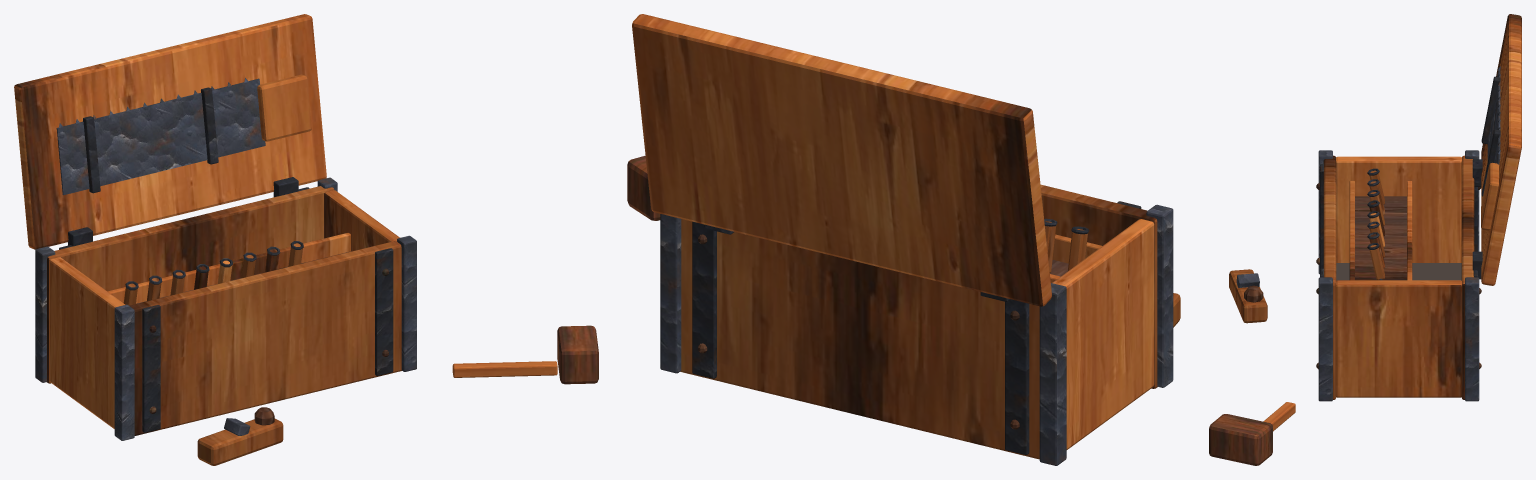
File: mg_tool_chest.glb
3 renders of one model, left to right at view 1: azimuth 30°, elevation 25°; view 2: azimuth 150°, elevation 25°; view 3: azimuth 270°, elevation 25°, orthographic. The views are drawn at different scales.
Visible parts, largest first — view 1: model; view 2: model; view 3: model.
Part boxes in pixels (box(x1,y1,x2,y2)): model: box(14, 14, 598, 465); model: box(627, 14, 1180, 465); model: box(1209, 14, 1521, 465).
Bounding box in the file's own units: 1.31 × 0.7921 × 0.8719.
10 materials, 9 textured.
